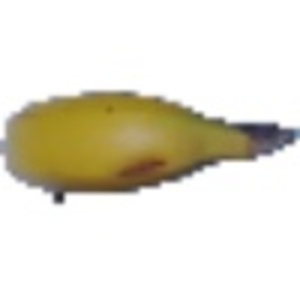banana: (2, 83, 287, 194)
